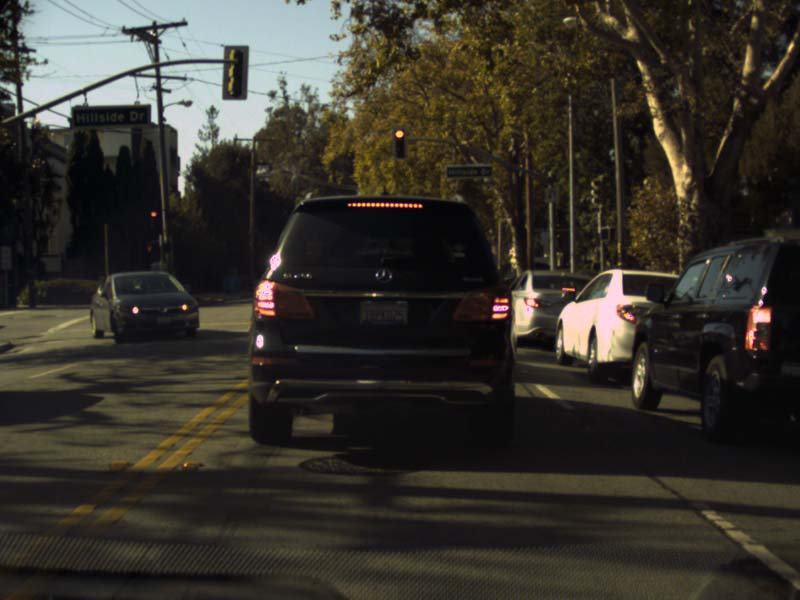Red: (393, 127, 405, 156), (148, 210, 159, 231)
